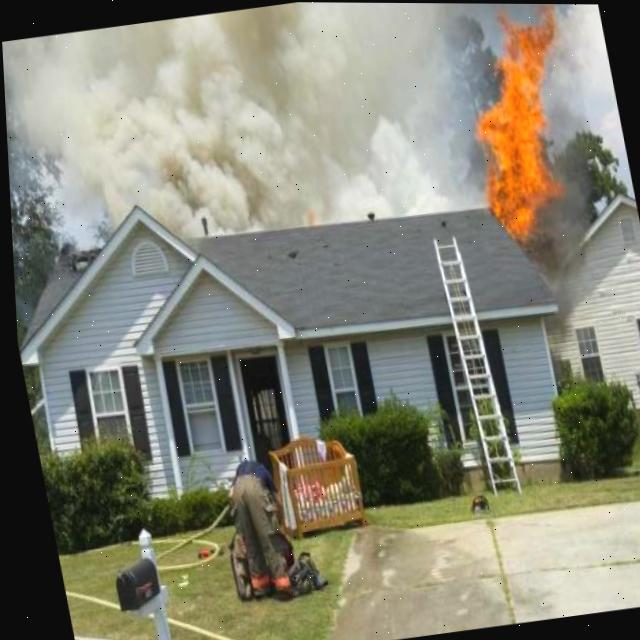fire: (475, 3, 561, 240)
smoke: (2, 2, 492, 269)
